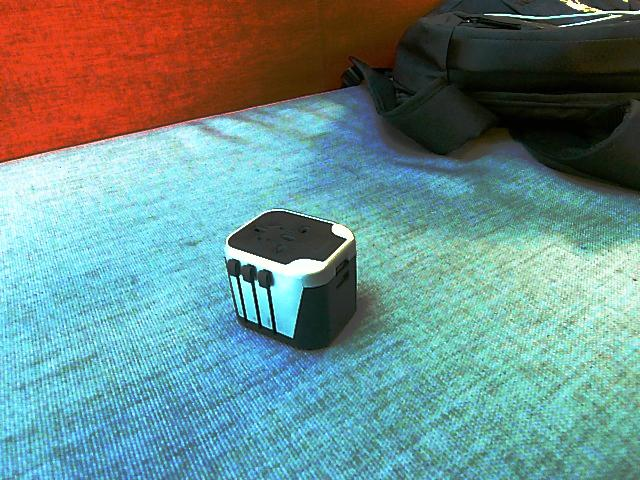adapter: (222, 207, 358, 350)
